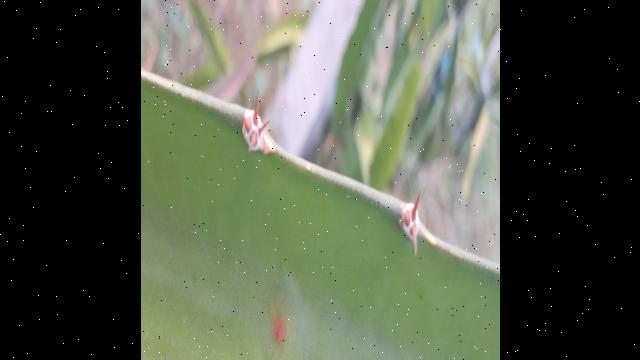stemcanker: (261, 291, 297, 354)
